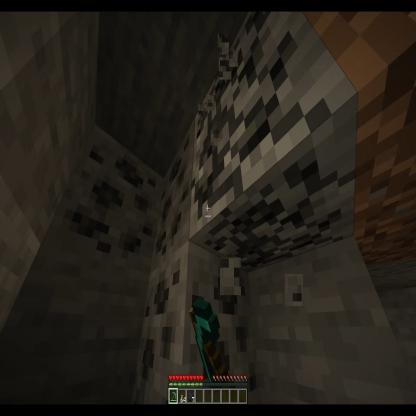coal ore: (137, 244, 259, 408), (56, 119, 151, 275), (149, 112, 196, 262)
